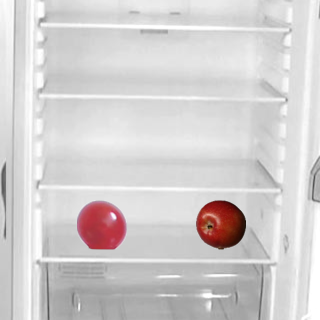Apple Braeburn: (195, 199, 245, 249)
Redcurrant: (76, 199, 126, 249)
